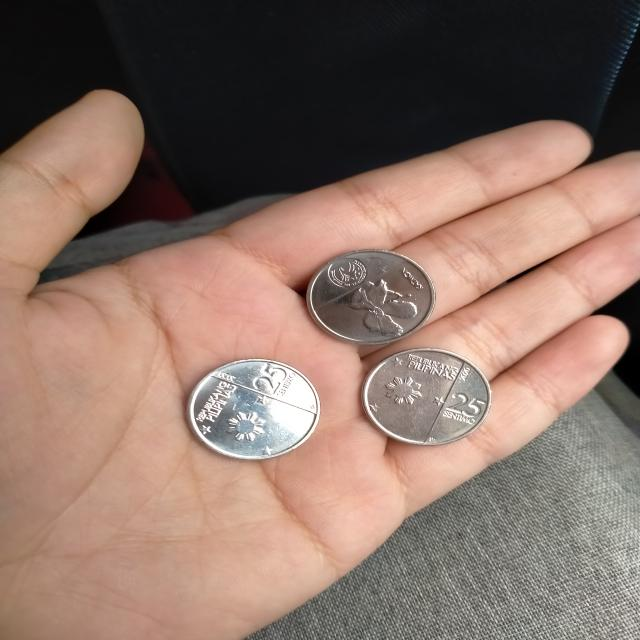25Cent_New_Back: (351, 282, 423, 335)
25Cent_New_Front: (245, 360, 300, 403), (436, 384, 486, 430)
